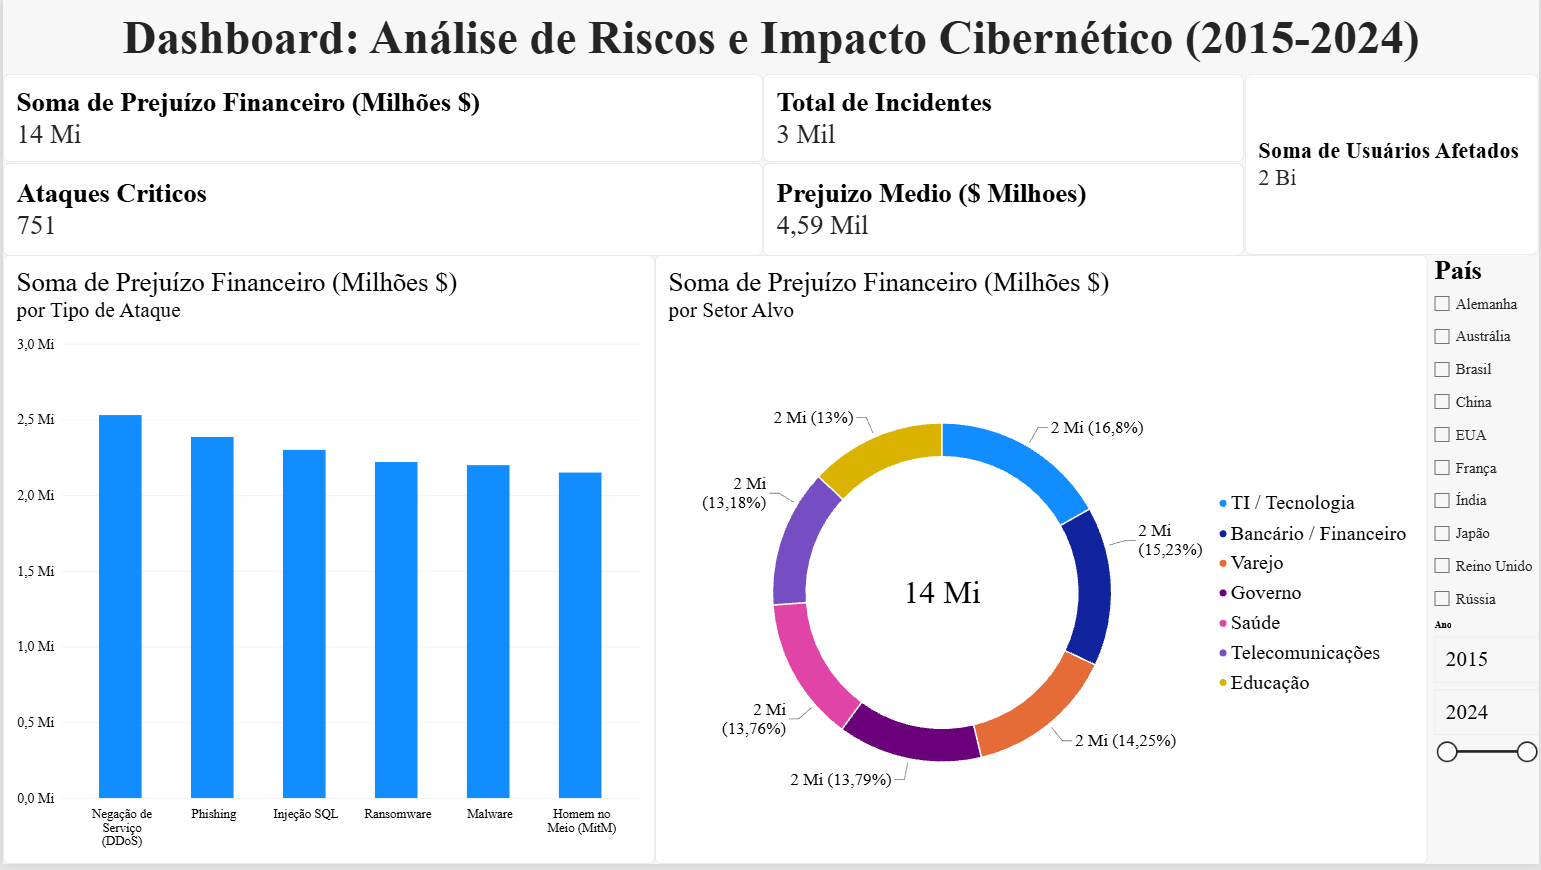

The dashboard page shown, as its layout file describes it:
{"tool":"powerbi","page":{"name":"Página 1","canvas":[1920,1080],"ordinal":0},"visuals":[{"type":"cardVisual","fields":{"Data":["Sum(dataset_cybersecurity_tratado.Prejuízo Financeiro (Milhões $))"]},"box":[0,92.7,950.3,110.7],"z":0},{"type":"cardVisual","fields":{"Data":["Sum(dataset_cybersecurity_tratado.Usuários Afetados)"]},"box":[1552,92.7,368,226.9],"z":1000},{"type":"columnChart","fields":{"Category":["dataset_cybersecurity_tratado.Tipo de Ataque"],"Y":["Sum(dataset_cybersecurity_tratado.Prejuízo Financeiro (Milhões $))"]},"box":[0,319.2,815.3,760.8],"z":2000},{"type":"donutChart","fields":{"Category":["dataset_cybersecurity_tratado.Setor Alvo"],"Y":["Sum(dataset_cybersecurity_tratado.Prejuízo Financeiro (Milhões $))"]},"box":[815.3,319.2,965.6,760.8],"z":3000},{"type":"slicer","fields":{"Values":["dataset_cybersecurity_tratado.País"]},"box":[1780.9,319.2,139.7,478.8],"z":4000},{"type":"cardVisual","fields":{"Data":["dataset_cybersecurity_tratado.Prejuizo Medio ($ Milhoes)"]},"box":[950.3,203.3,601.7,116.2],"z":5000},{"type":"cardVisual","fields":{"Data":["dataset_cybersecurity_tratado.Total de Incidentes"]},"box":[950.3,92.7,601.7,110.7],"z":6000},{"type":"cardVisual","fields":{"Data":["dataset_cybersecurity_tratado.Ataques Criticos"]},"box":[0,203.3,950.3,116.2],"z":7000},{"type":"textbox","box":[0,13.8,1920,67.8],"z":8000},{"type":"slicer","fields":{"Values":["dataset_cybersecurity_tratado.Ano"]},"box":[1780.9,774.1,139.7,305.9],"z":9000}]}

Visuals, with their boxes in screenshot pixels (x1, y1, x2, y2), scaled from the page's 1920x1080 canvas onto the 1541x870 screenshot:
cardVisual - Sum(dataset_cybersecurity_tratado.Prejuízo Financeiro (Milhões $)): 0/75/763/164
cardVisual - Sum(dataset_cybersecurity_tratado.Usuários Afetados): 1246/75/1540/257
columnChart - dataset_cybersecurity_tratado.Tipo de Ataque x Sum(dataset_cybersecurity_tratado.Prejuízo Financeiro (Milhões $)): 0/257/654/869
donutChart - dataset_cybersecurity_tratado.Setor Alvo x Sum(dataset_cybersecurity_tratado.Prejuízo Financeiro (Milhões $)): 654/257/1429/869
slicer - dataset_cybersecurity_tratado.País: 1429/257/1540/643
cardVisual - dataset_cybersecurity_tratado.Prejuizo Medio ($ Milhoes): 763/164/1246/257
cardVisual - dataset_cybersecurity_tratado.Total de Incidentes: 763/75/1246/164
cardVisual - dataset_cybersecurity_tratado.Ataques Criticos: 0/164/763/257
textbox: 0/11/1540/66
slicer - dataset_cybersecurity_tratado.Ano: 1429/624/1540/869
